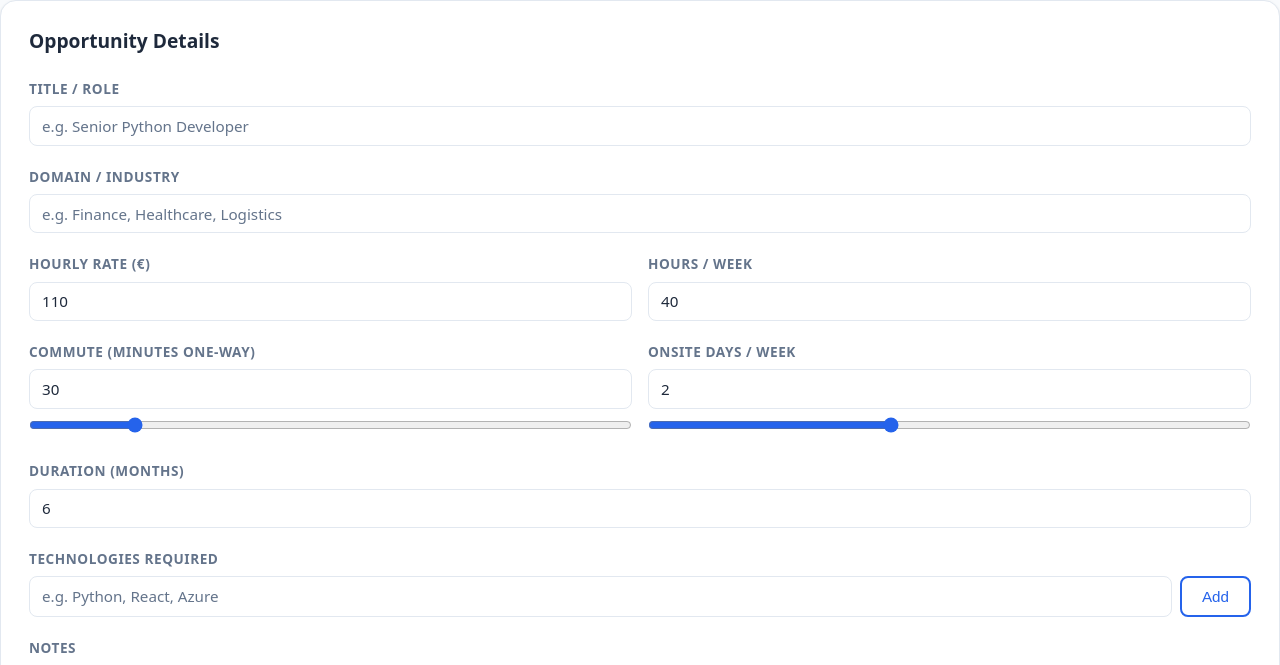
Test: EvaluatorForm › adds technology on Enter key
The image size is (1280, 665).
In the field named "Add technology": (600, 596) [29,576,1172,617], type "React"
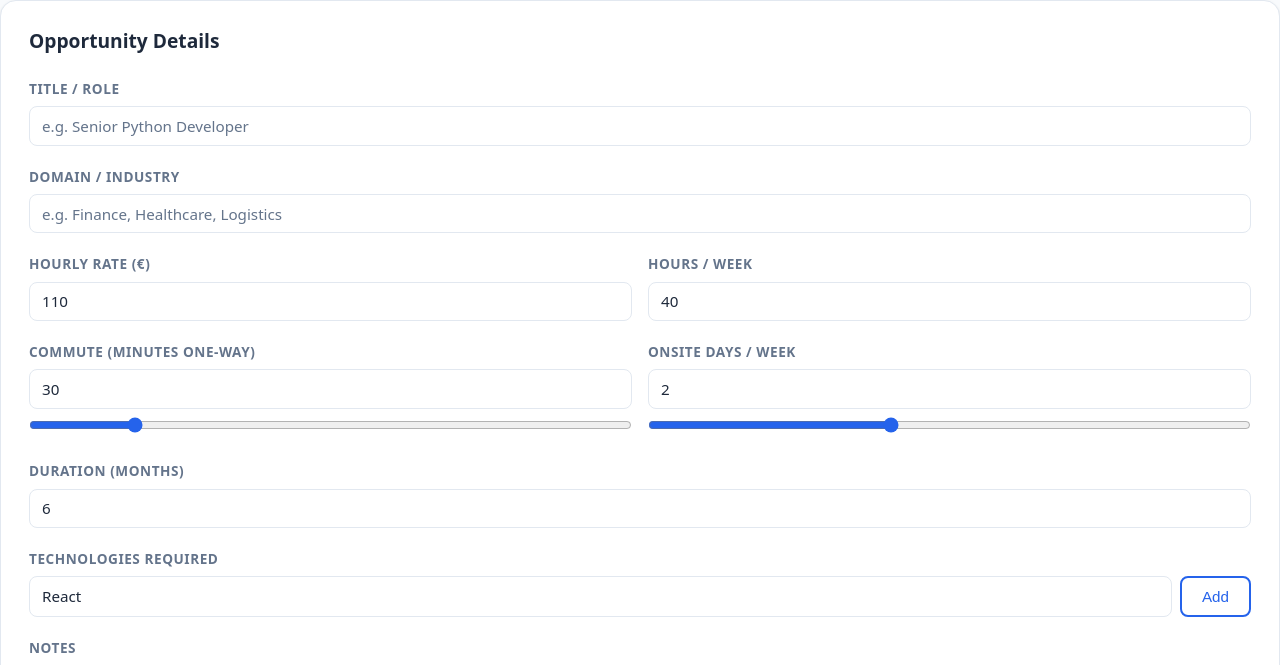
Press Enter in the field named "Add technology", box [29,576,1172,617]
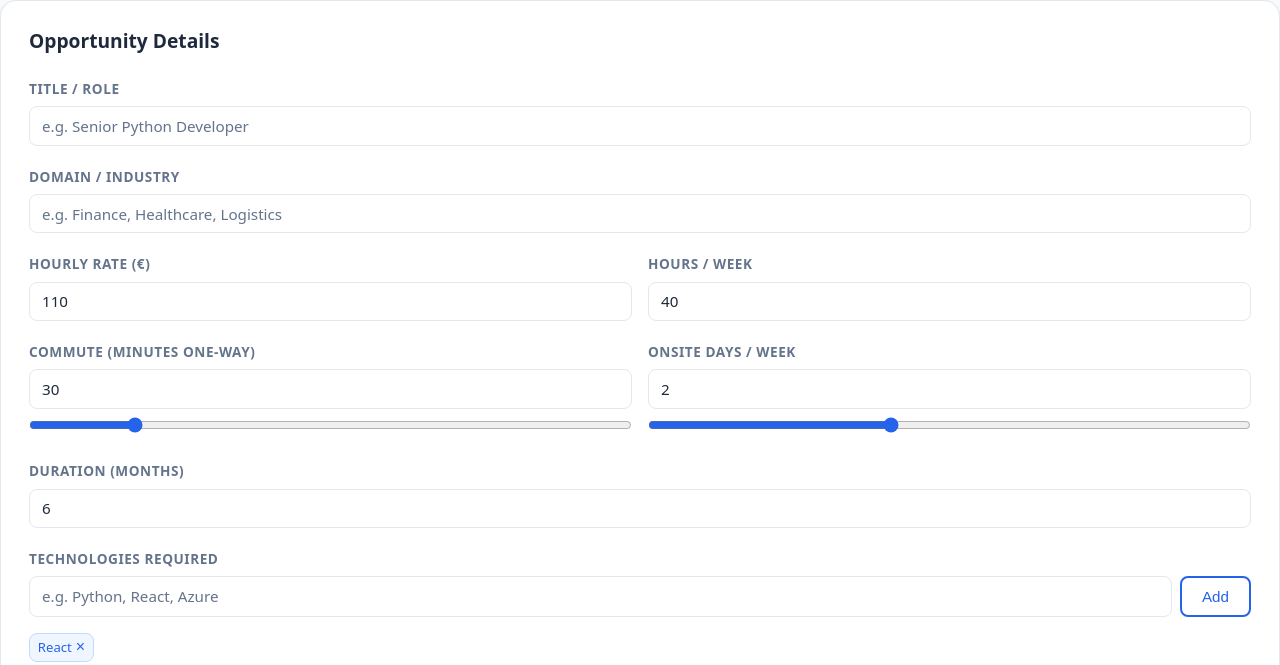
Expected: the text "React" is shown, [38,638,72,656]
